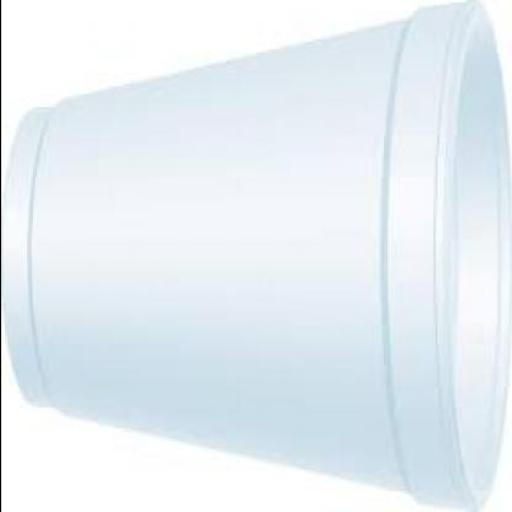paper: (1, 7, 511, 511)
